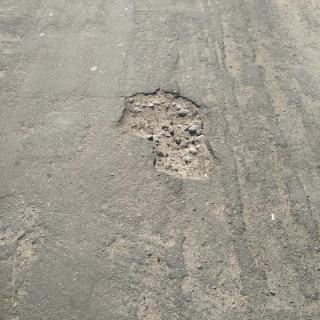pothole: (116, 88, 214, 182)
